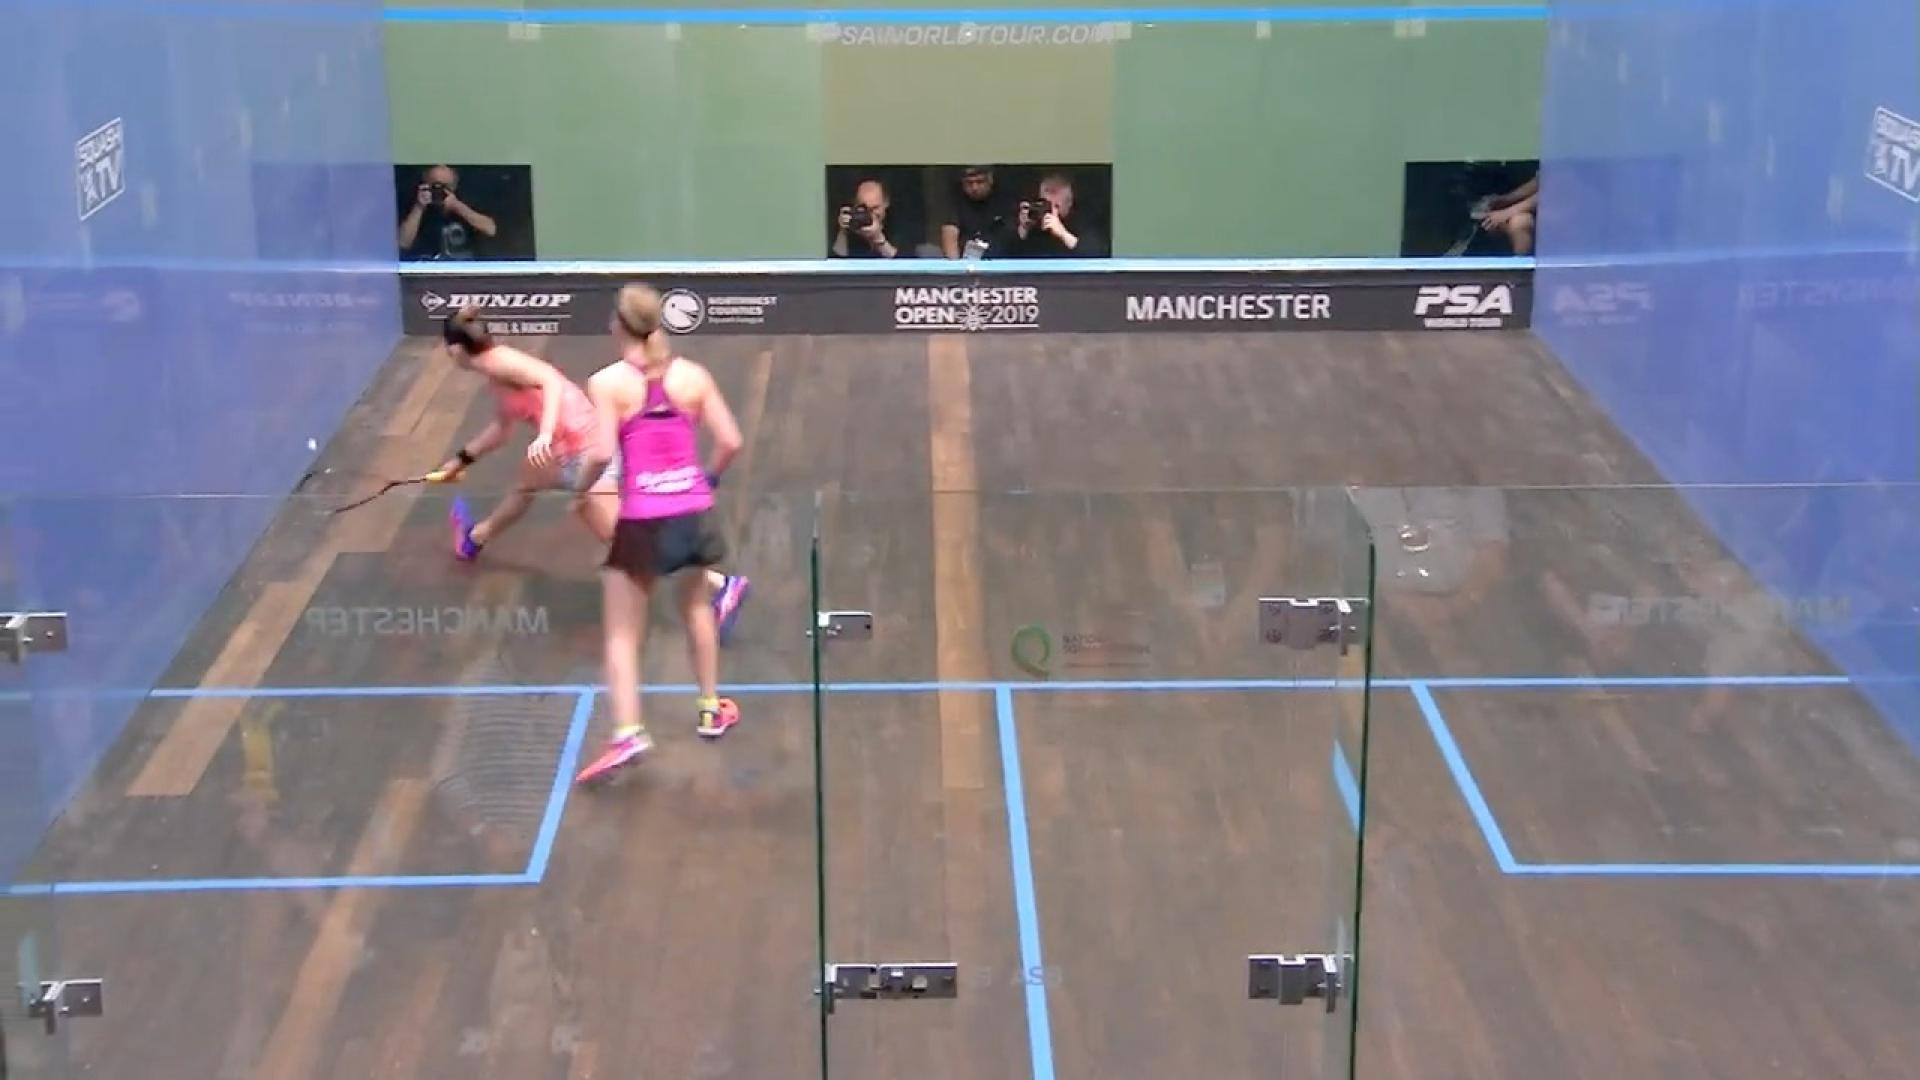Squash-Ball: (293, 427, 332, 468)
